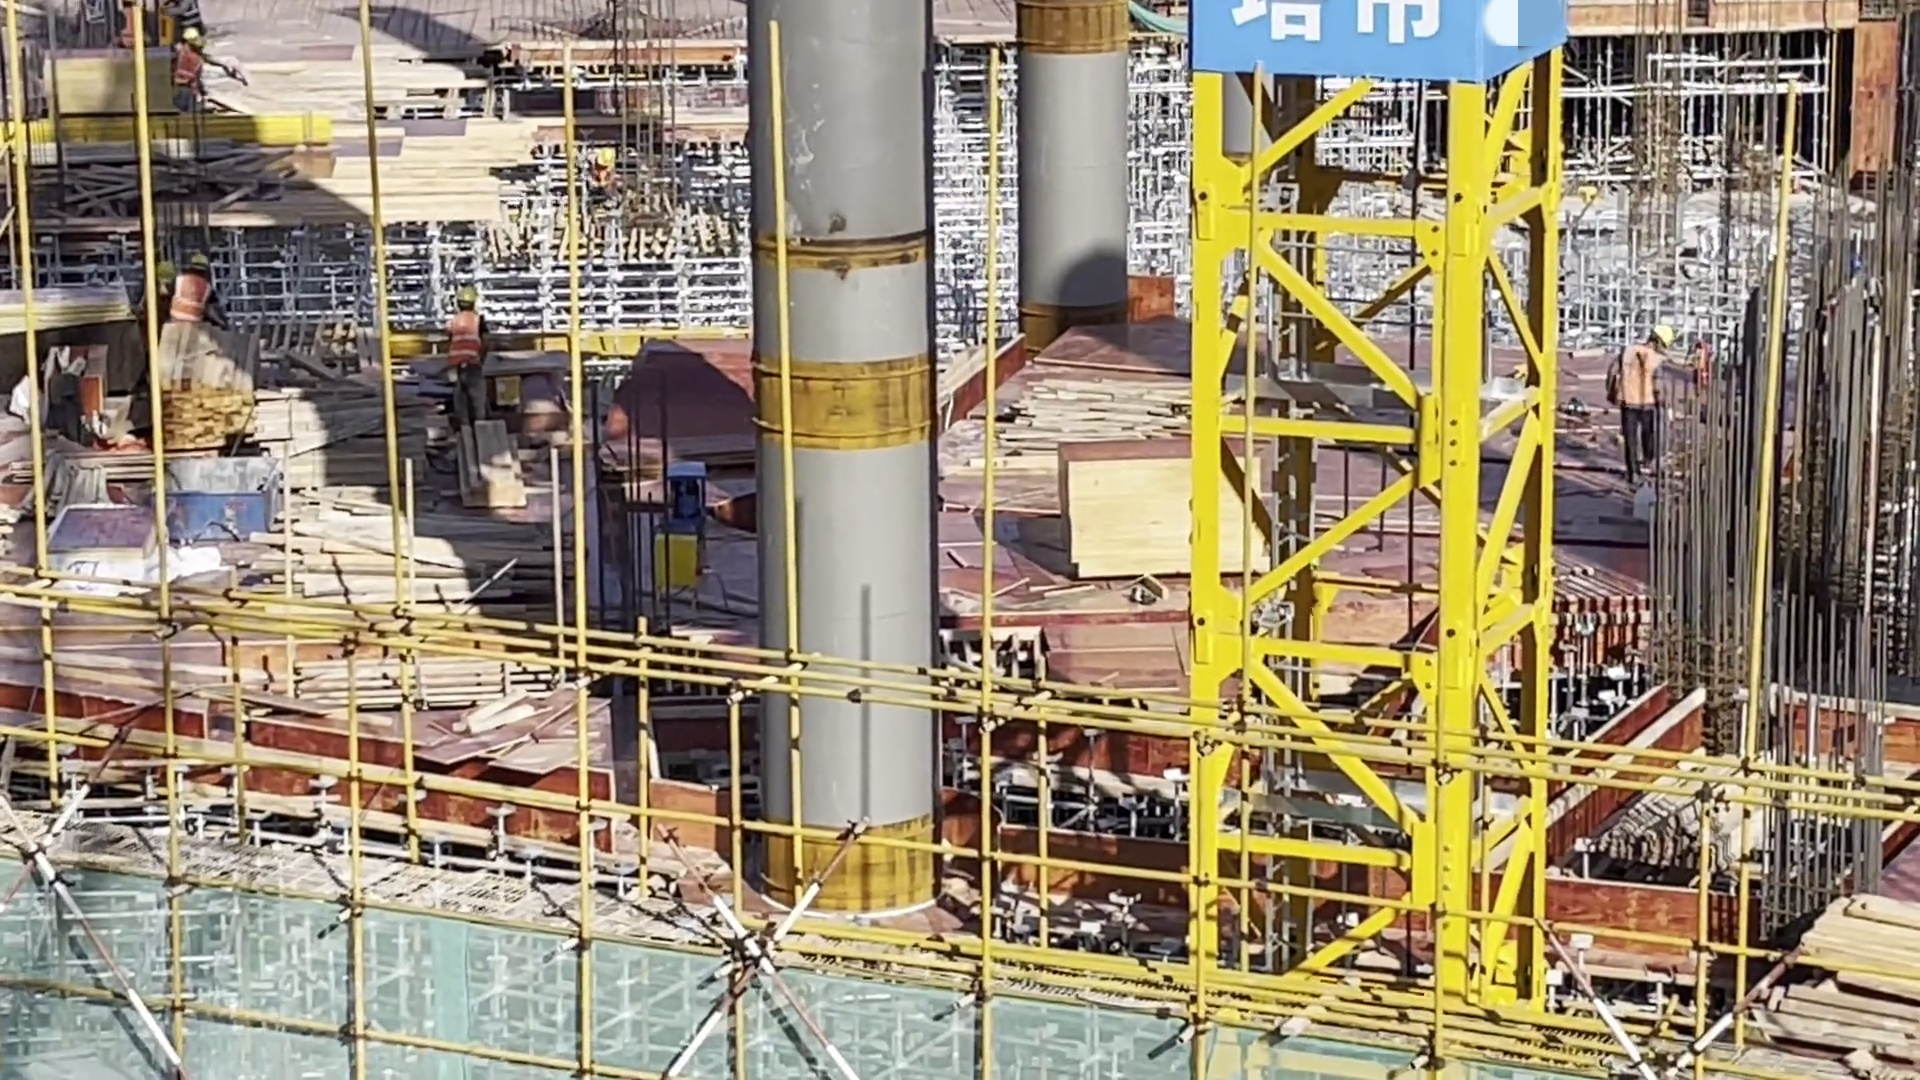board: (1050, 433, 1266, 593), (1, 269, 127, 358), (44, 43, 181, 124)
helmet: (1649, 321, 1678, 349), (455, 287, 481, 313), (587, 150, 617, 171), (187, 253, 215, 269), (182, 23, 198, 45), (183, 37, 209, 50)
hopper: (150, 453, 283, 552)
person: (1611, 313, 1679, 491), (439, 285, 495, 413), (167, 251, 221, 367), (176, 37, 217, 112), (584, 151, 625, 223)
slogan: (1204, 1, 1544, 71)
vest: (1620, 342, 1662, 417), (441, 312, 488, 372), (172, 274, 216, 327), (174, 46, 204, 94)
wood: (288, 487, 573, 603), (155, 323, 256, 452), (456, 413, 538, 516)
